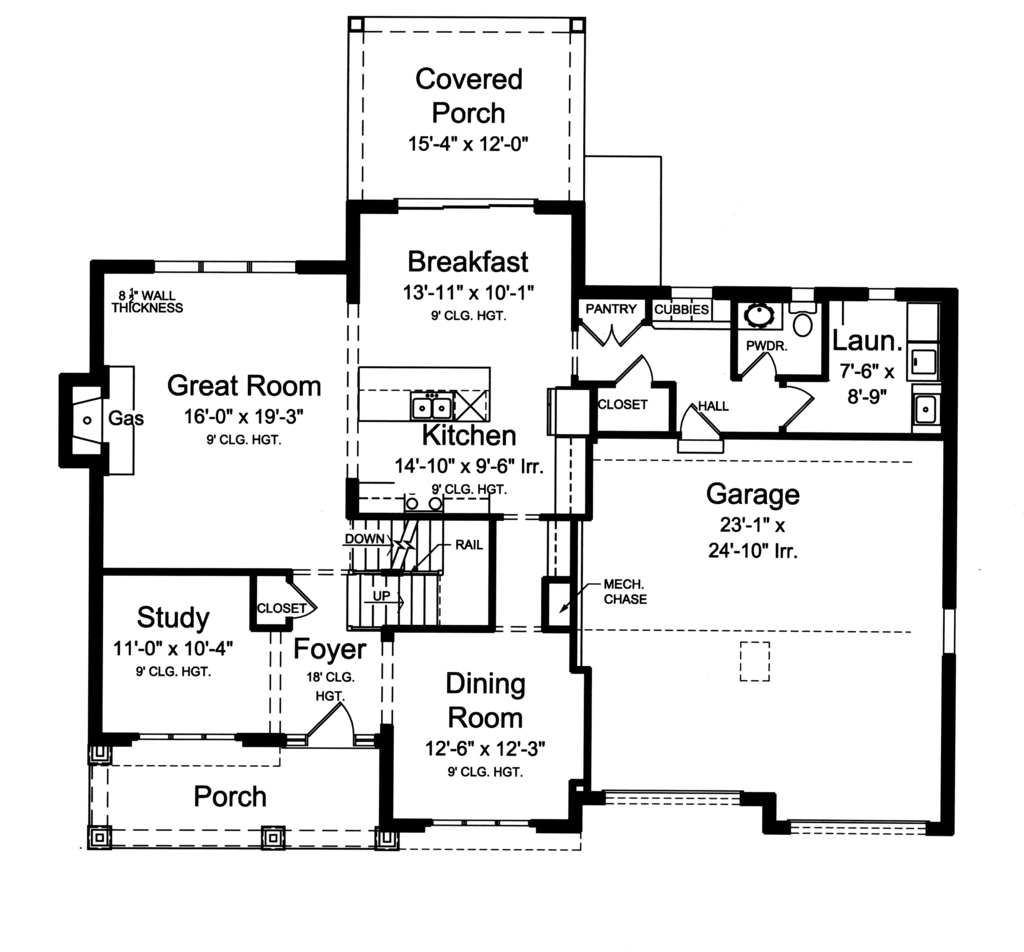door: (576, 312, 645, 351), (674, 404, 726, 450), (309, 701, 360, 744), (776, 384, 813, 430), (610, 357, 654, 393), (739, 354, 773, 381)
kitchen_bar: (349, 359, 491, 429)
large_sink: (783, 305, 822, 336)
small_sink: (736, 301, 788, 334)
stairs: (344, 521, 493, 637)
windows: (144, 252, 303, 282), (389, 192, 543, 221), (129, 727, 240, 745), (427, 810, 539, 827), (938, 603, 961, 659)
